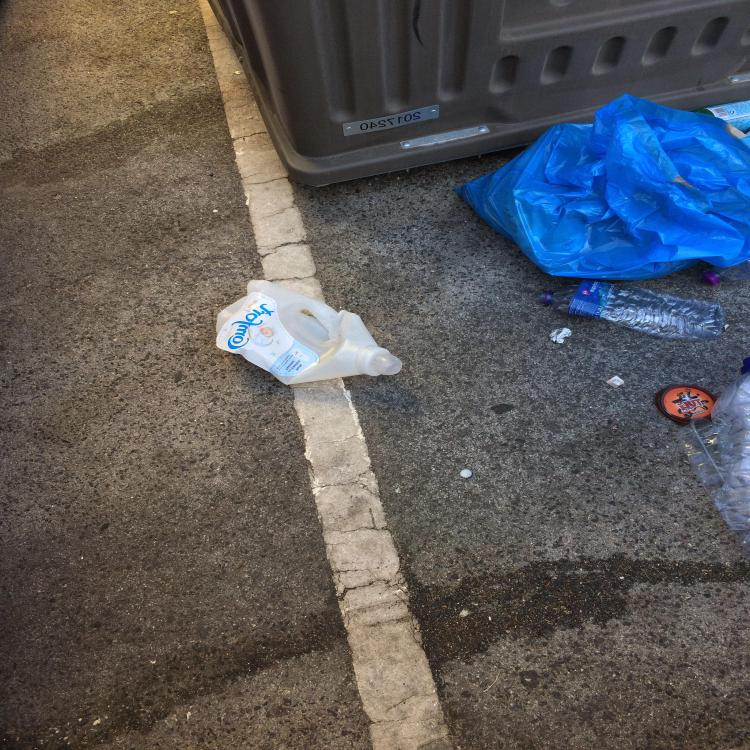Aluminium foil: (548, 328, 571, 343)
Clear plastic bottle: (540, 279, 724, 340), (711, 357, 750, 552), (702, 259, 749, 286)
Garbage bag: (454, 94, 750, 280)
Metal bottle cap: (460, 468, 474, 478)
Other plastic wrapper: (691, 99, 750, 134)
Plastic bottle cap: (361, 348, 403, 376), (701, 272, 719, 288)
Plastic lid: (654, 385, 716, 424)
Unlabeled litter: (606, 375, 624, 388)
